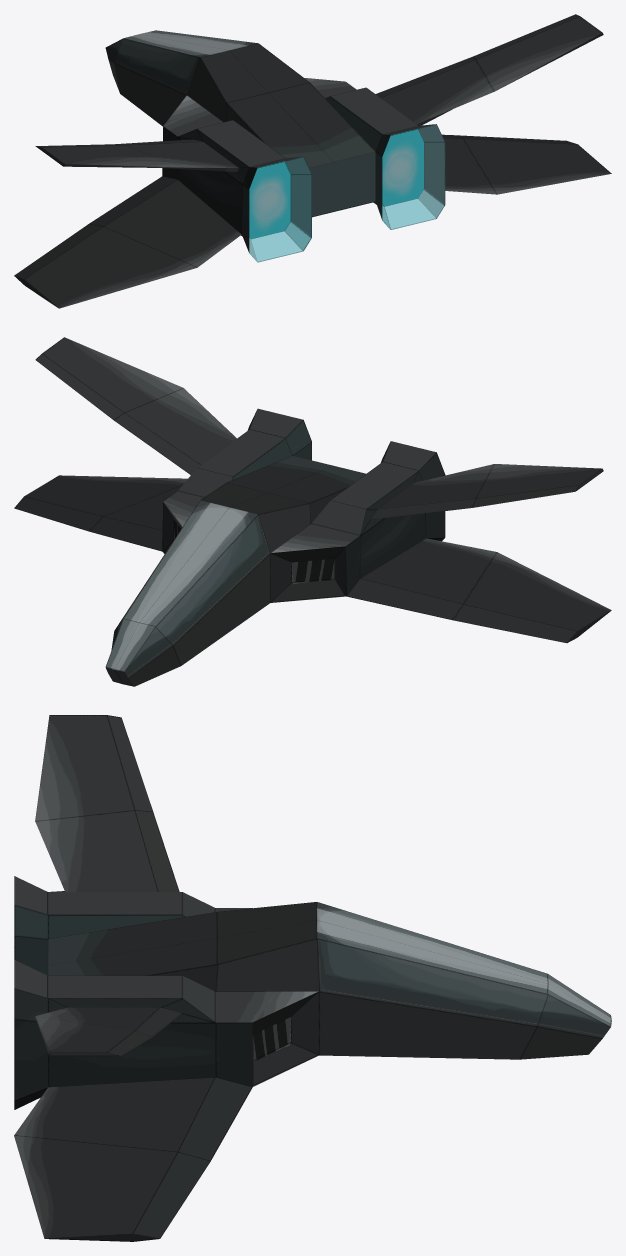
Rendered from DevShipA.gltf.
3 views of the same model, one above another, from view 1: azimuth 30°, elevation 25°; view 2: azimuth 150°, elevation 25°; view 3: azimuth 270°, elevation 25° (orthographic). The views are drawn at different scales.
Visible parts, largest first — view 1: Cube; view 2: Cube; view 3: Cube.
Part boxes in pixels (x1=…): Cube: x1=14, y1=14, x2=611, y2=308; Cube: x1=14, y1=337, x2=611, y2=686; Cube: x1=14, y1=715, x2=611, y2=1241.
Size of the model in its own units: 6.07 by 1.51 by 4.42.
3 materials, 1 textured.
